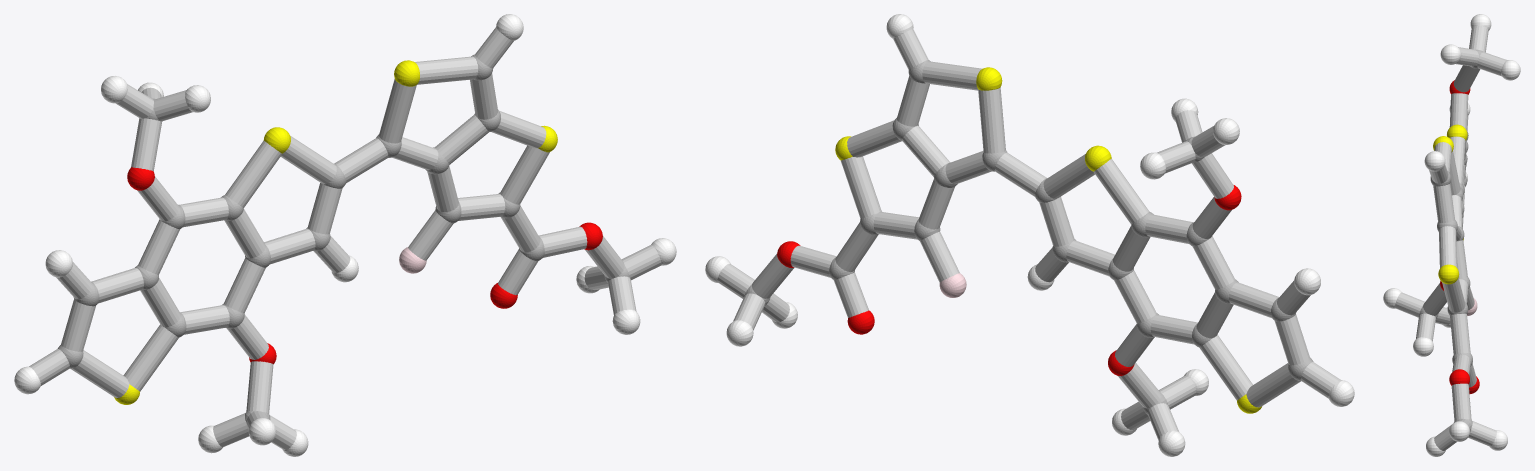
Rendered from color.glb.
The picture shows the model from 3 angles, left to right: view 1: azimuth 30°, elevation 25°; view 2: azimuth 150°, elevation 25°; view 3: azimuth 270°, elevation 25°; orthographic projection. The views are drawn at different scales.
Visible parts, largest first — view 1: grp15205, grp8689, grp1, grp7241, grp13395; view 2: grp15205, grp8689, grp1, grp13395, grp7241; view 3: grp15205, grp8689, grp1, grp7241, grp13395.
Boxes of the visible parts, x1,y1,x2,y2 form: grp15205: [29, 27, 661, 449]; grp8689: [14, 14, 676, 456]; grp1: [57, 54, 629, 421]; grp7241: [114, 60, 557, 404]; grp13395: [127, 167, 602, 364]; grp15205: [717, 29, 1340, 440]; grp8689: [705, 14, 1354, 456]; grp1: [745, 60, 1313, 414]; grp13395: [777, 185, 1241, 375]; grp7241: [835, 67, 1261, 413]; grp15205: [1395, 25, 1507, 450]; grp8689: [1383, 14, 1520, 456]; grp1: [1419, 49, 1483, 426]; grp7241: [1433, 124, 1467, 284]; grp13395: [1440, 80, 1479, 393].
Size of the model in its own units: 16.47 by 9.19 by 3.95.
